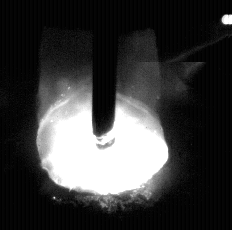arame: (92, 0, 117, 136)
poca: (35, 0, 168, 230)
